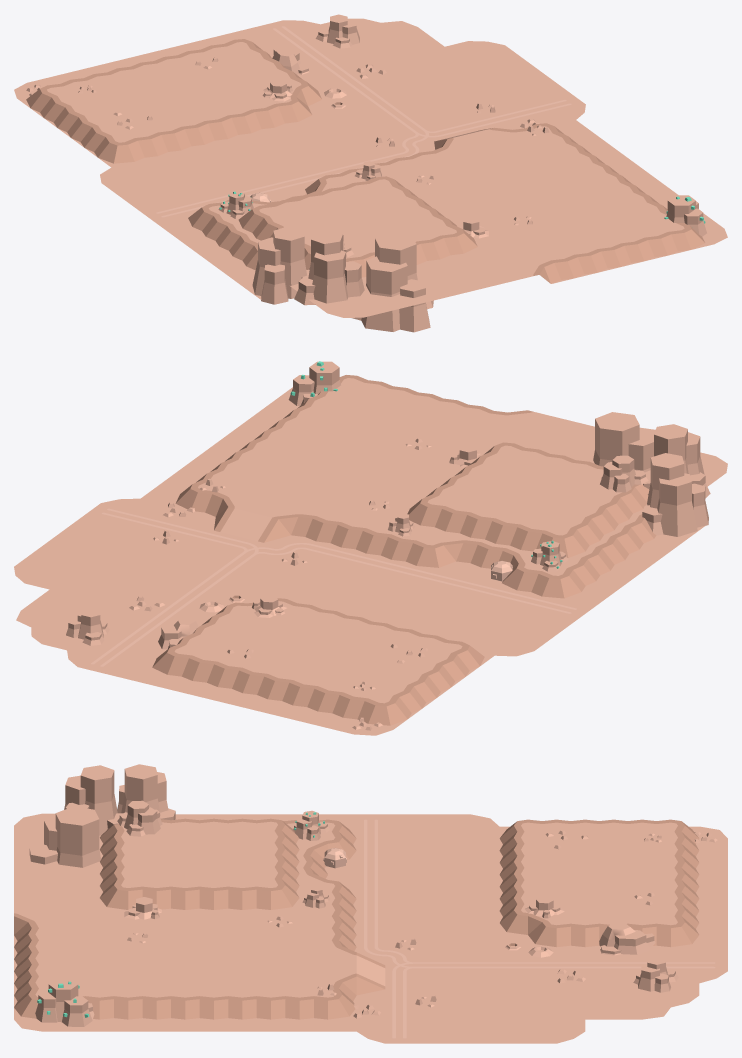
Rendered from terrain_1v2.fbx.
3 views of the same model, one above another, from view 1: azimuth 30°, elevation 25°; view 2: azimuth 150°, elevation 25°; view 3: azimuth 270°, elevation 25° (orthographic). The views are drawn at different scales.
Visible parts, largest first — view 1: terrain.094; view 2: terrain.094; view 3: terrain.094.
Boxes of the visible parts, x1,y1,x2,y2 form: terrain.094: [14, 14, 727, 332]; terrain.094: [14, 361, 727, 735]; terrain.094: [14, 764, 727, 1043].
Bounding box in the file's own units: 19.06 × 3.4 × 25.
